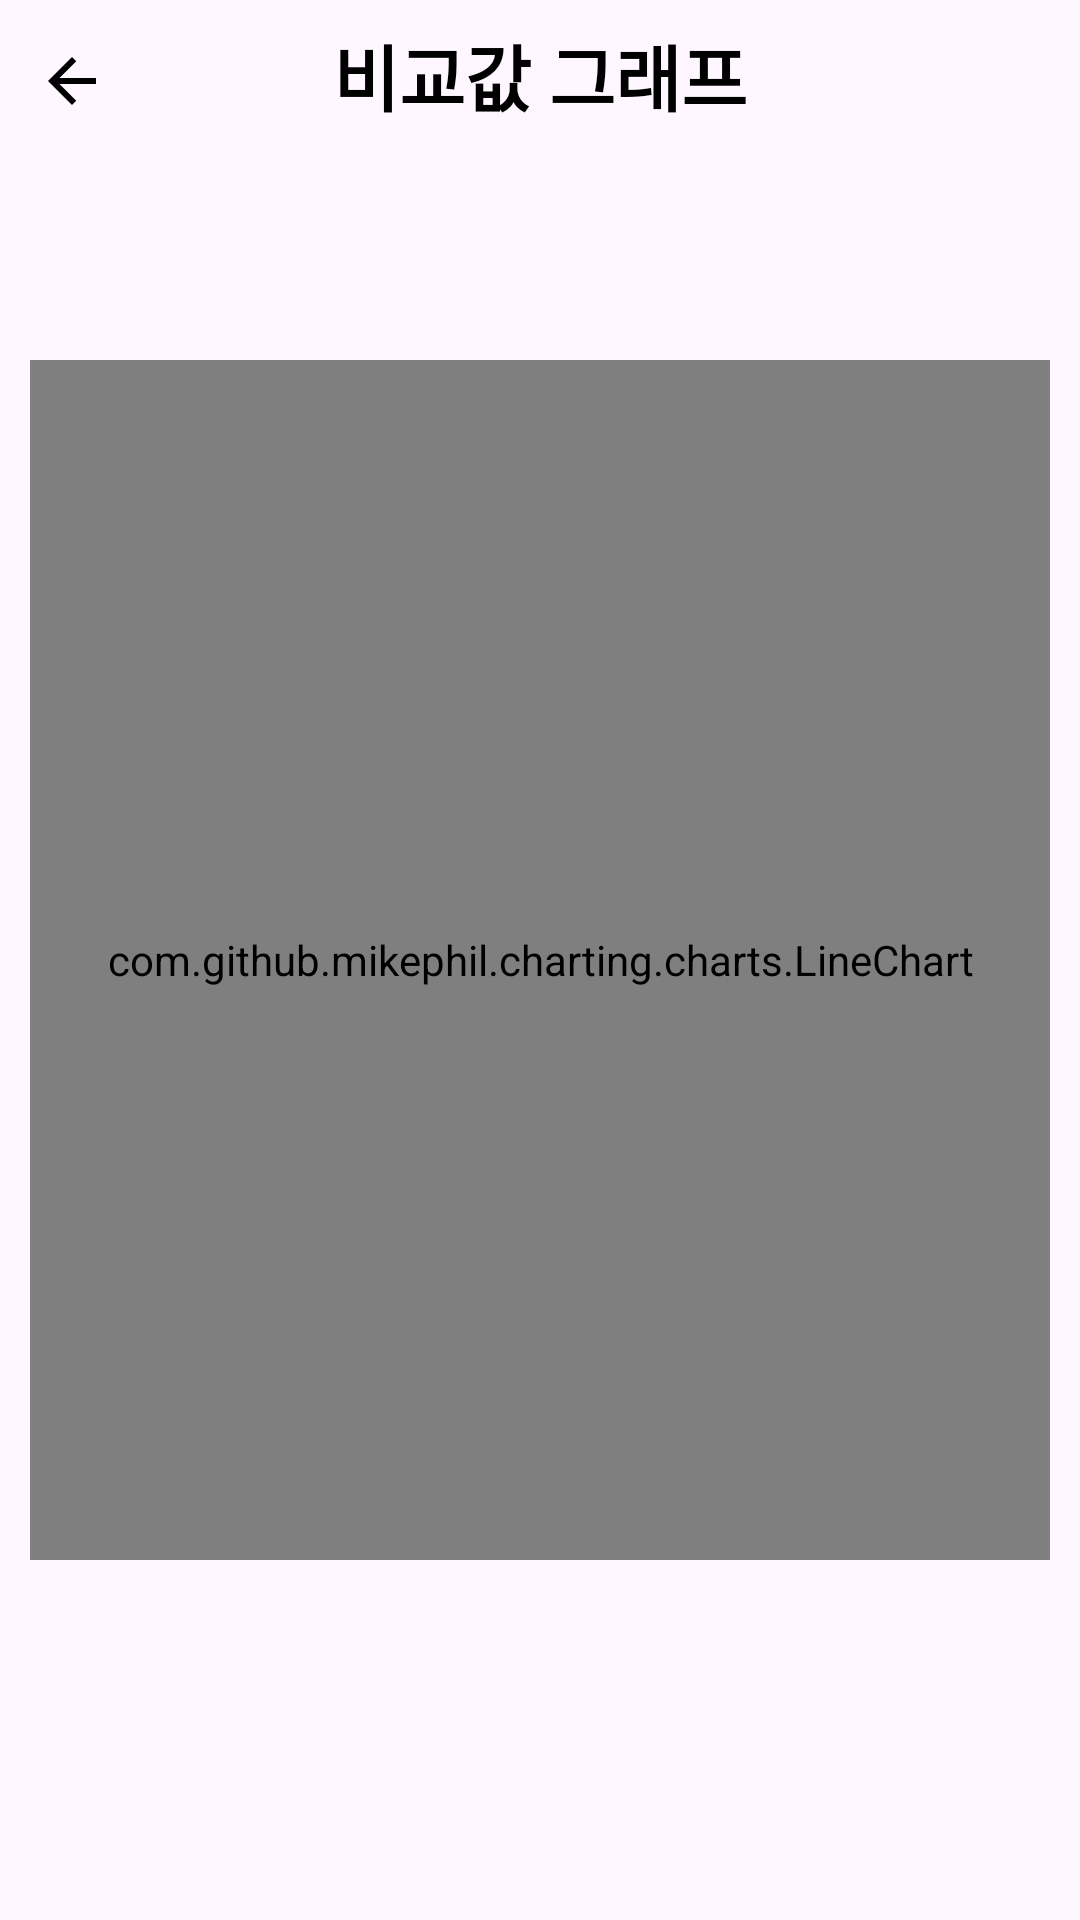

Icon click points for this 1080w x 1920h phone screenshot, format [x,y]:
arrow: [72,81]
